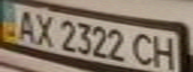2: (106, 26, 130, 63), (54, 17, 78, 53), (90, 22, 109, 60)
3: (72, 20, 93, 56)
A: (12, 7, 39, 43)
C: (127, 30, 160, 68)
H: (151, 34, 181, 71)
X: (30, 11, 57, 47)
